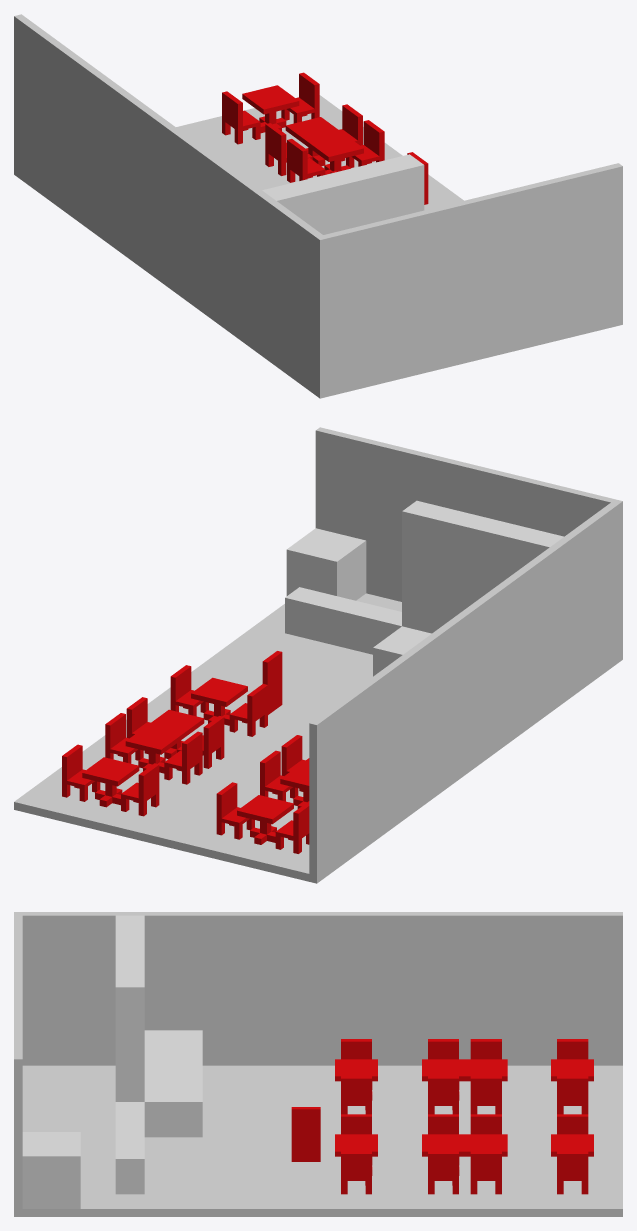
File: 速食店 1.dae
The picture shows the model from 3 angles, top to bottom: view 1: azimuth 30°, elevation 25°; view 2: azimuth 150°, elevation 25°; view 3: azimuth 270°, elevation 25°; orthographic projection.
Visible parts, largest first — view 1: Cube, 立方體.001, 圓柱體.002, 圓柱體.005, 圓柱體.003, 圓柱體.001, 圓柱體.008, 圓柱體.006, 圓柱體.004, 圓柱體.009, 圓柱體.007; view 2: Cube, 立方體.001, 立方體.002, 圓柱體.002, 圓柱體.014, 圓柱體.008, 圓柱體.020, 圓柱體.003, 圓柱體.009, 圓柱體.021, 圓柱體.013, 圓柱體.001 (+10 smaller); view 3: Cube, 立方體.001, 立方體.002, 立方體, 圓柱體.007, 圓柱體.001, 圓柱體.004, 圓柱體.019, 圓柱體.022, 圓柱體.013, 圓柱體.016, 圓柱體.010 (+16 smaller).
Part boxes in pixels (x1,y1,x2,y2): Cube: (14, 14, 622, 398); 立方體.001: (262, 154, 424, 234); 圓柱體.002: (242, 85, 299, 133); 圓柱體.005: (307, 132, 363, 174); 圓柱體.003: (222, 91, 260, 144); 圓柱體.001: (281, 72, 319, 123); 圓柱體.008: (285, 117, 341, 166); 圓柱體.006: (287, 139, 325, 182); 圓柱體.004: (346, 120, 384, 167); 圓柱體.009: (265, 123, 286, 175); 圓柱體.007: (339, 104, 362, 161); Cube: (14, 427, 622, 883); 立方體.001: (285, 500, 563, 676); 立方體.002: (286, 528, 366, 600); 圓柱體.002: (82, 757, 139, 807); 圓柱體.014: (237, 795, 293, 844); 圓柱體.008: (125, 725, 182, 773); 圓柱體.020: (191, 677, 247, 725); 圓柱體.003: (121, 763, 159, 816); 圓柱體.009: (164, 731, 202, 784); 圓柱體.021: (229, 684, 267, 736); 圓柱體.013: (216, 782, 254, 839); 圓柱體.001: (62, 744, 100, 801); Cube: (14, 912, 622, 1216); 立方體.001: (115, 915, 202, 1194); 立方體.002: (22, 1132, 80, 1208); 立方體: (291, 1107, 320, 1161); 圓柱體.007: (470, 1151, 501, 1194); 圓柱體.001: (557, 1151, 588, 1194); 圓柱體.004: (428, 1151, 458, 1194); 圓柱體.019: (341, 1151, 371, 1194); 圓柱體.022: (470, 1076, 501, 1114); 圓柱體.013: (557, 1076, 588, 1114); 圓柱體.016: (428, 1076, 458, 1114); 圓柱體.010: (341, 1076, 371, 1114).
Size of the model in its own units: 12 by 21 by 6.
